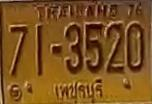0: (126, 23, 144, 71)
1: (36, 25, 43, 71)
2: (106, 24, 125, 73)
3: (64, 24, 82, 73)
5: (85, 23, 103, 72)
7: (10, 26, 28, 74)
PBI: (52, 77, 105, 102)
